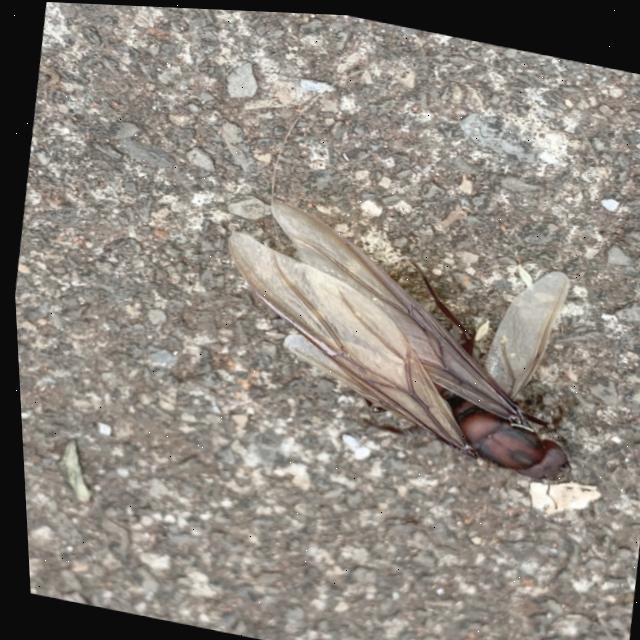Alive-Female-Alate: (190, 186, 626, 514)
